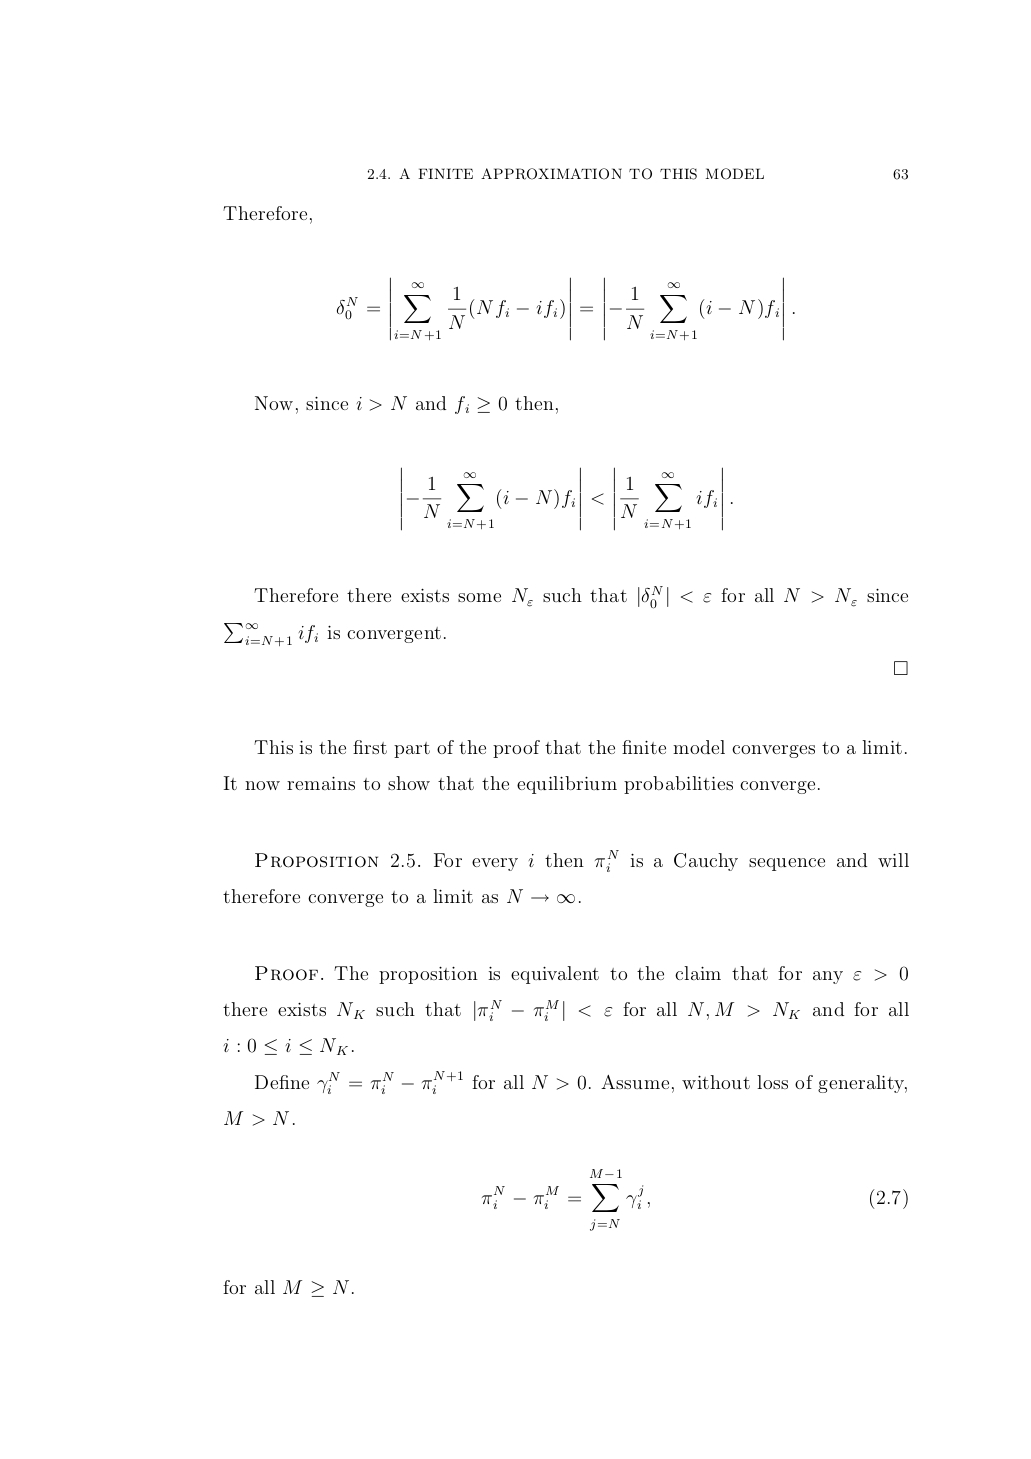figure: (894, 660, 907, 675)
formula: (336, 276, 794, 341), (481, 1169, 907, 1230), (399, 466, 732, 531), (223, 1037, 353, 1055), (224, 1110, 293, 1125)
